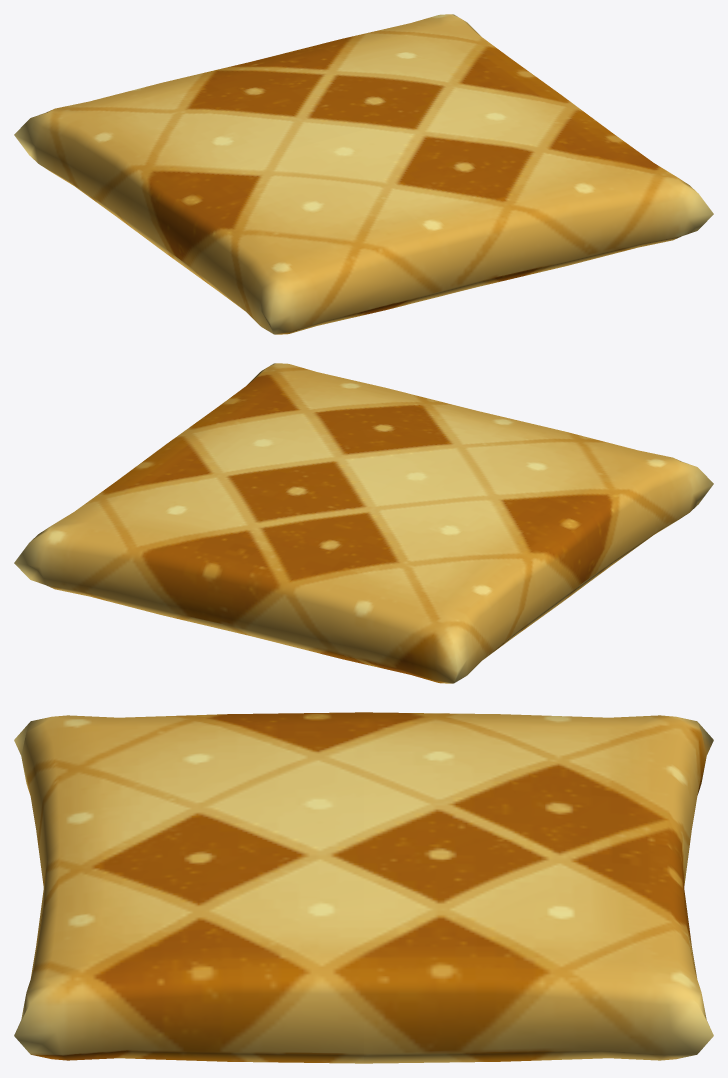
File: pi_cushion01_03.gltf
3 renders of one model, top to bottom at view 1: azimuth 30°, elevation 25°; view 2: azimuth 150°, elevation 25°; view 3: azimuth 270°, elevation 25°, orthographic. The views are drawn at different scales.
Parts seen in each view (by area): view 1: pi_cushion01_03_mesh_shape:pi_cushion01; view 2: pi_cushion01_03_mesh_shape:pi_cushion01; view 3: pi_cushion01_03_mesh_shape:pi_cushion01.
Boxes of the visible parts, box(x1,y1,x2,y2) form: pi_cushion01_03_mesh_shape:pi_cushion01: box(14, 14, 713, 334); pi_cushion01_03_mesh_shape:pi_cushion01: box(14, 363, 713, 683); pi_cushion01_03_mesh_shape:pi_cushion01: box(14, 712, 713, 1063).
Bounding box in the file's own units: 1.36 × 0.261 × 1.36.
Materials: 1 (1 with a texture image).
